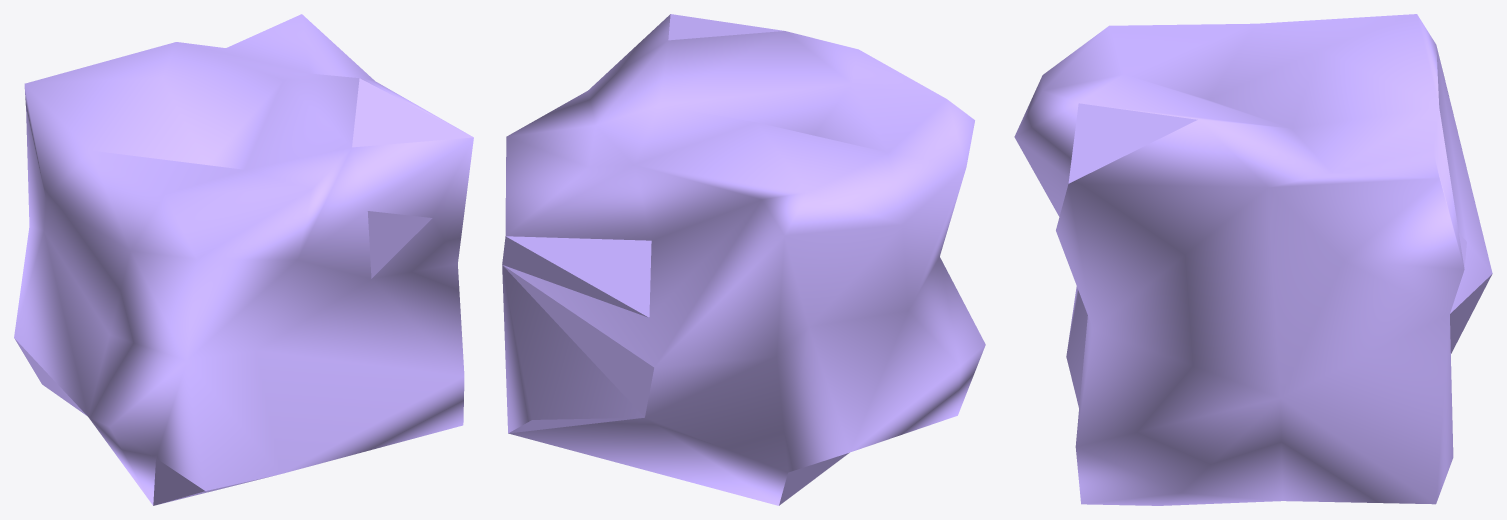
Rendered from metal-rare.glb.
The picture shows the model from 3 angles, left to right: view 1: azimuth 30°, elevation 25°; view 2: azimuth 150°, elevation 25°; view 3: azimuth 270°, elevation 25°; orthographic projection. The views are drawn at different scales.
Parts seen in each view (by area): view 1: Cube; view 2: Cube; view 3: Cube.
Part boxes in pixels (bbox=[...]): Cube: bbox=[14, 14, 473, 505]; Cube: bbox=[502, 14, 985, 505]; Cube: bbox=[1014, 14, 1492, 505].
Bounding box in the file's own units: 1.32 × 1.22 × 1.41.
